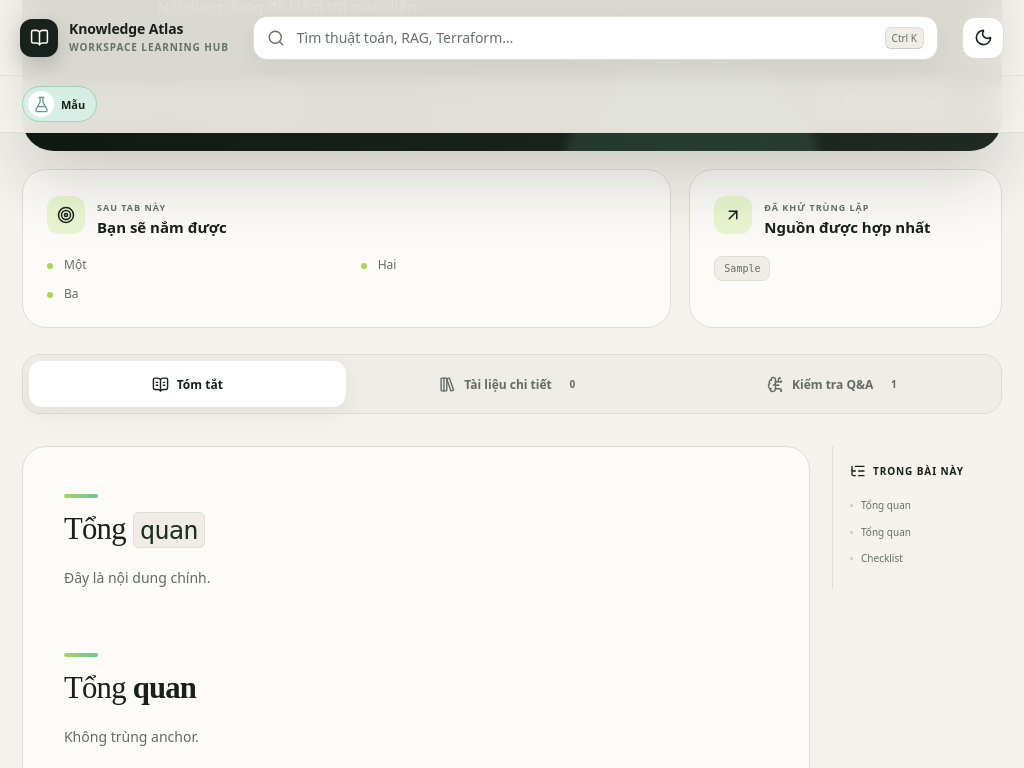
KnowledgeLibraryPage › cho phép làm bài Q&A và xem giải thích
(page scrolled)
Click the tab "Kiểm tra Q&A 1".
click(837, 384)  # box [678,361,995,407]
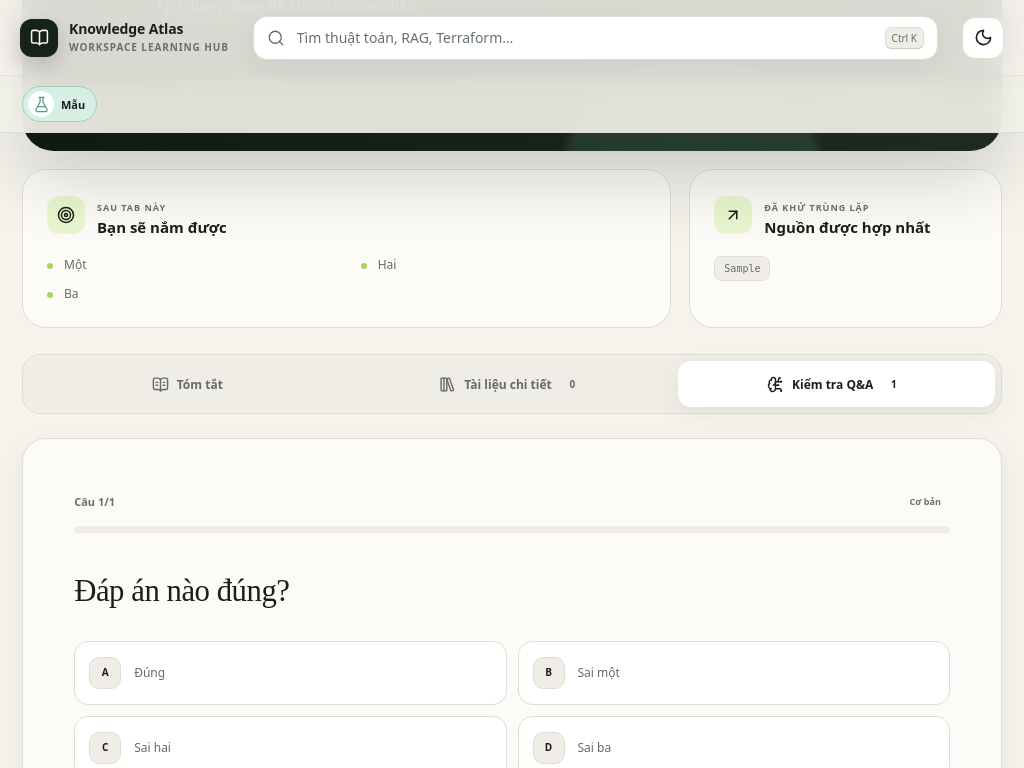
Click the radio button labelled "A Đúng".
click(105, 673)  # box [74,641,506,705]
(page scrolled)
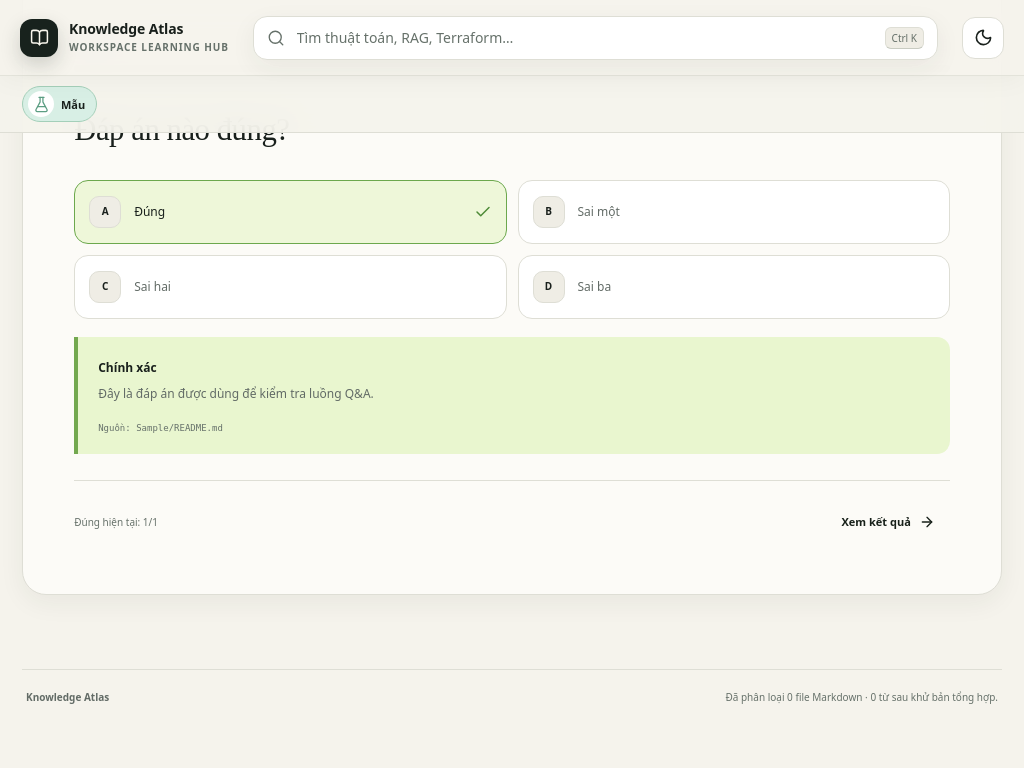
Result: the text "Chính xác" is shown at [98,359,157,376]
Result: the text "Đây là đáp án được dùng để kiểm tra luồng Q&A." is shown at [98,385,374,402]
Click the button "Xem kết quả".
click(888, 522)  # box [826,501,950,543]
(page scrolled)
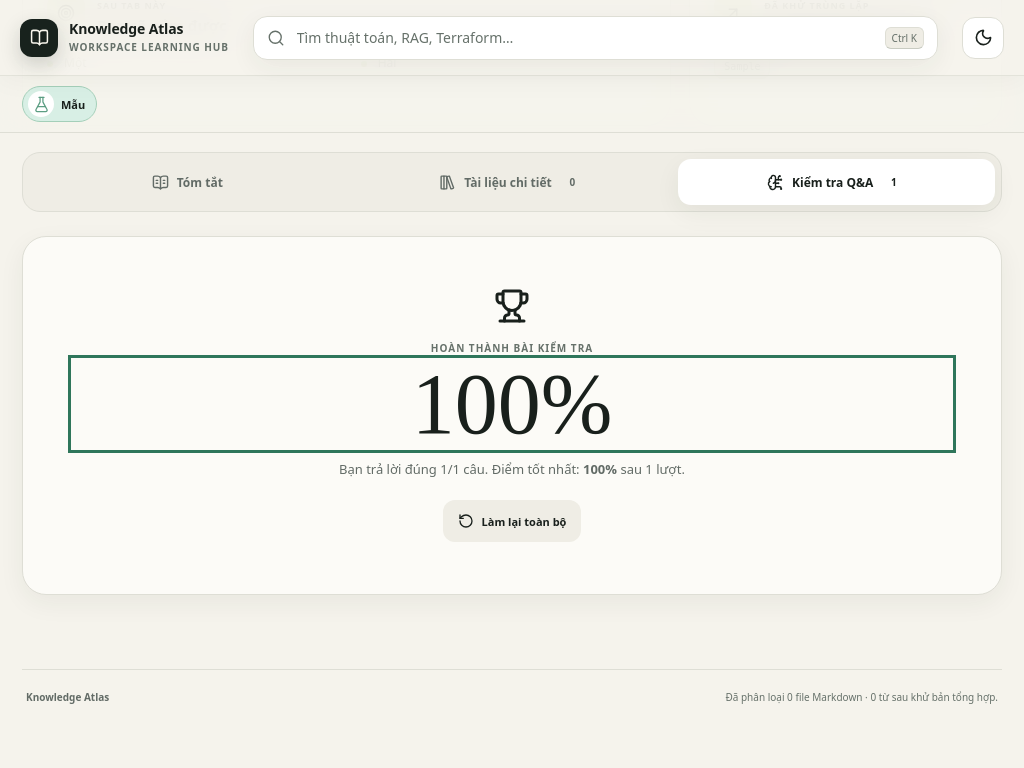
Result: the heading "100%" is shown at [412,356,612,452]
